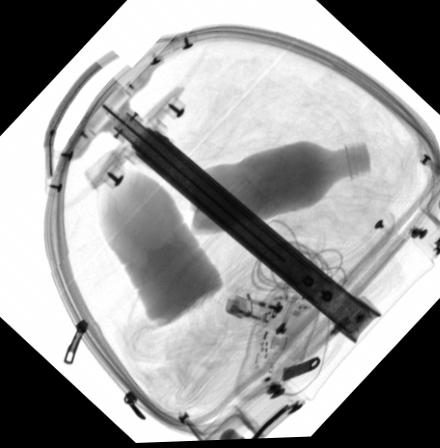Lighter: (225, 289, 293, 334)
